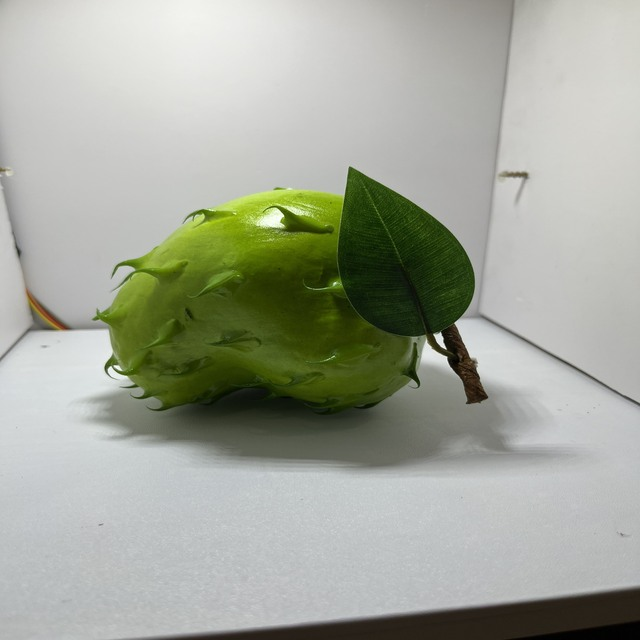Man cau: (89, 174, 453, 437)
